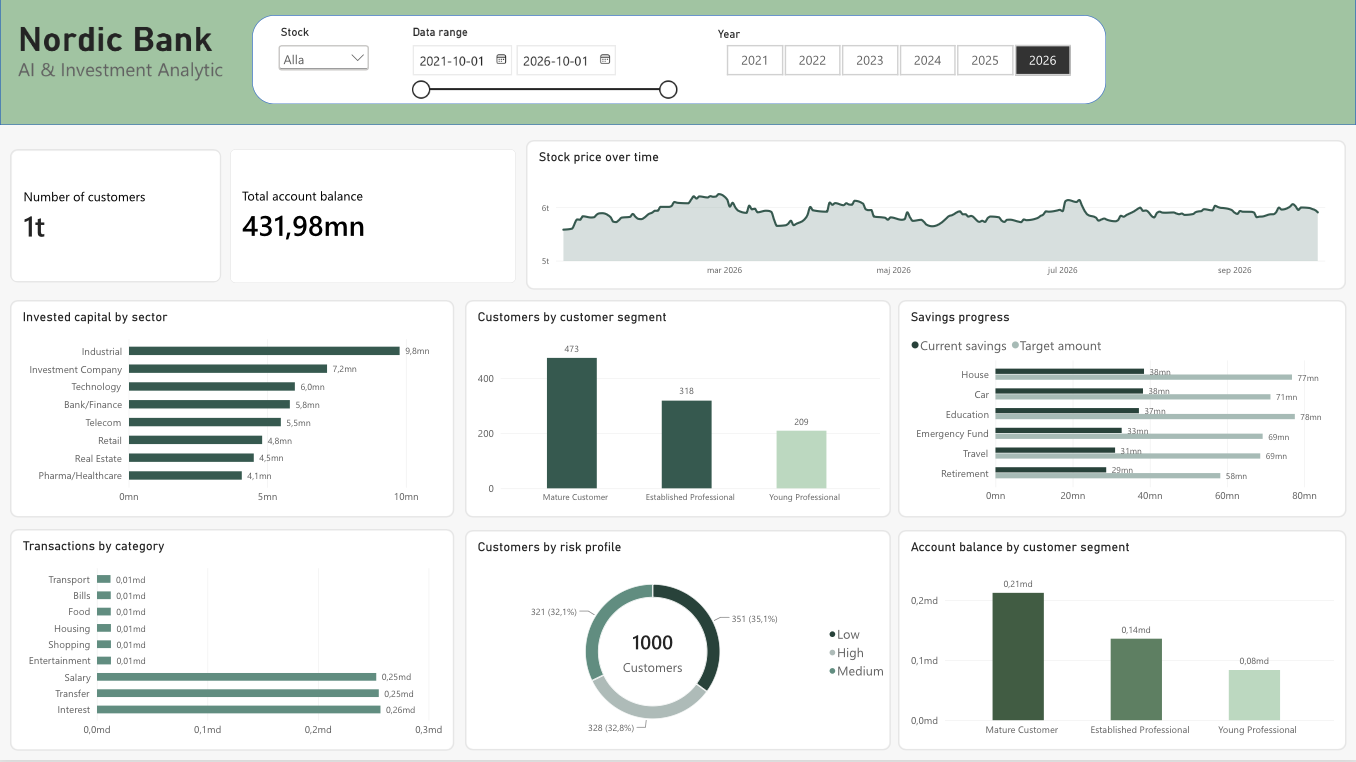

What the dashboard file says about the page in this screenshot:
{"tool":"powerbi","page":{"name":"Rapport","canvas":[1920,1080],"ordinal":0},"visuals":[{"type":"cardVisual","fields":{"Data":["CountNonNull(customer.customer_id)"]},"box":[25.6,214,287.5,190],"z":0},{"type":"cardVisual","fields":{"Data":["Sum(account.balance)"]},"box":[325.6,214,405,190],"z":1000},{"type":"clusteredColumnChart","title":"Account balance by customer segment","fields":{"Category":["customer.customer_segment"],"Y":["Sum(account.balance)"]},"box":[1270.9,753.5,634.9,312.8],"z":2000},{"type":"columnChart","title":"Customers by customer segment","fields":{"Category":["customer.customer_segment"],"Y":["Count(customer.customer_id)"]},"box":[658.1,427.9,603.5,308.1],"z":3000},{"type":"donutChart","title":"Customers by risk profile","fields":{"Category":["customer.risk_profile"],"Y":["Count(account.customer_id)"]},"box":[658.1,753.5,603.5,312.8],"z":4000},{"type":"barChart","title":"Invested capital by sector","fields":{"Category":["investment.sector"],"Y":["investment.Investeringsvärde"]},"box":[25.6,427.9,617.4,308.1],"z":5000},{"type":"barChart","title":"Transactions by category","fields":{"Category":["transactions.category"],"Y":["Sum(transactions.amount)"]},"box":[25.6,752.3,617.4,314],"z":6000},{"type":"clusteredBarChart","title":"Savings progress","fields":{"Category":["savingsgoal.goal_name"],"Y":["Sum(savingsgoal.current_amount)","Sum(savingsgoal.target_amount)"]},"box":[1270.9,427.9,634.9,308.1],"z":7000},{"type":"lineChart","title":"Stock price over time","fields":{"Category":["marketdata.market_date"],"Y":["Sum(marketdata.close_price)"]},"box":[745.3,201.2,1174,214.4],"z":8000},{"type":"shape","title":"Rektangeln","box":[0,0,1920,180],"z":9000},{"type":"shape","box":[356.6,24.5,1209.4,126.4],"z":10000},{"type":"slicer","title":"Ticker","fields":{"Values":["marketdata.ticker"]},"box":[390,40,138.1,69.1],"z":11000},{"type":"slicer","title":"År","fields":{"Values":["marketdata.market_date.Variation.Hiérarchie de dates.Année"]},"box":[1007.5,42.5,527,69.1],"z":12000},{"type":"textbox","title":"Nordic Bank","box":[25,37.5,315,82.5],"z":13000},{"type":"slicer","fields":{"Values":["marketdata.market_date"]},"box":[575.6,39.5,386,111.6],"z":14000}]}

Visuals, with their boxes in screenshot pixels (x1, y1, x2, y2), scaled from the page's 1920x1080 canvas onto the 1356x762 screenshot:
cardVisual - CountNonNull(customer.customer_id): box(18, 151, 221, 285)
cardVisual - Sum(account.balance): box(230, 151, 516, 285)
"Account balance by customer segment" clusteredColumnChart: box(898, 532, 1346, 752)
"Customers by customer segment" columnChart: box(465, 302, 891, 519)
"Customers by risk profile" donutChart: box(465, 532, 891, 752)
"Invested capital by sector" barChart: box(18, 302, 454, 519)
"Transactions by category" barChart: box(18, 531, 454, 752)
"Savings progress" clusteredBarChart: box(898, 302, 1346, 519)
"Stock price over time" lineChart: box(526, 142, 1355, 293)
"Rektangeln" shape: box(0, 0, 1355, 127)
shape: box(252, 17, 1106, 106)
"Ticker" slicer: box(275, 28, 373, 77)
"År" slicer: box(712, 30, 1084, 79)
"Nordic Bank" textbox: box(18, 26, 240, 85)
slicer - marketdata.market_date: box(407, 28, 679, 107)
